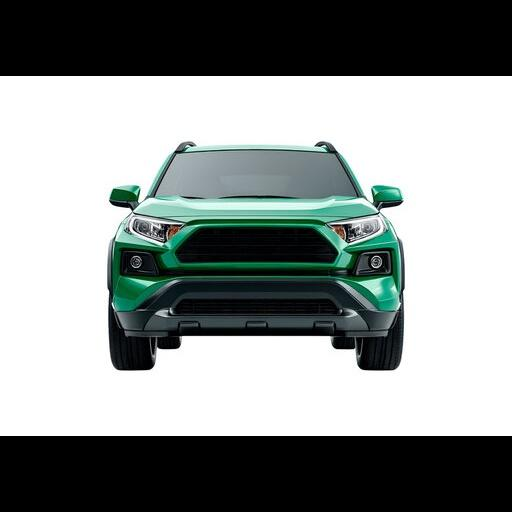suv: (108, 141, 403, 368)
